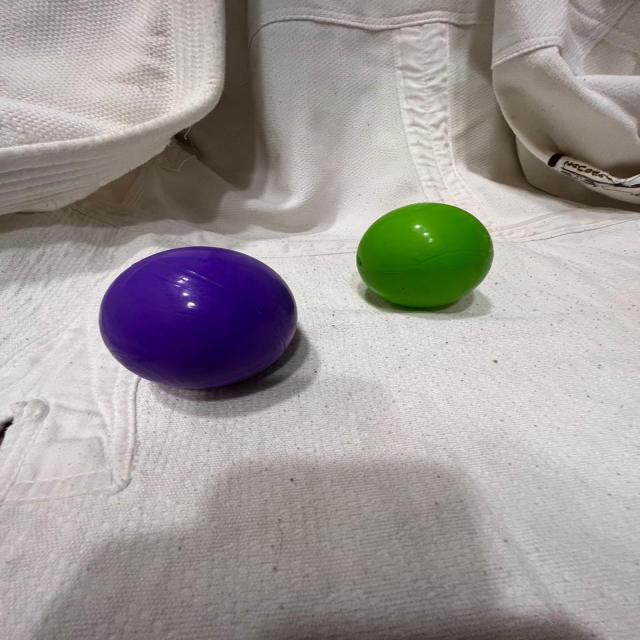ball: (97, 244, 302, 391), (352, 199, 497, 311)
